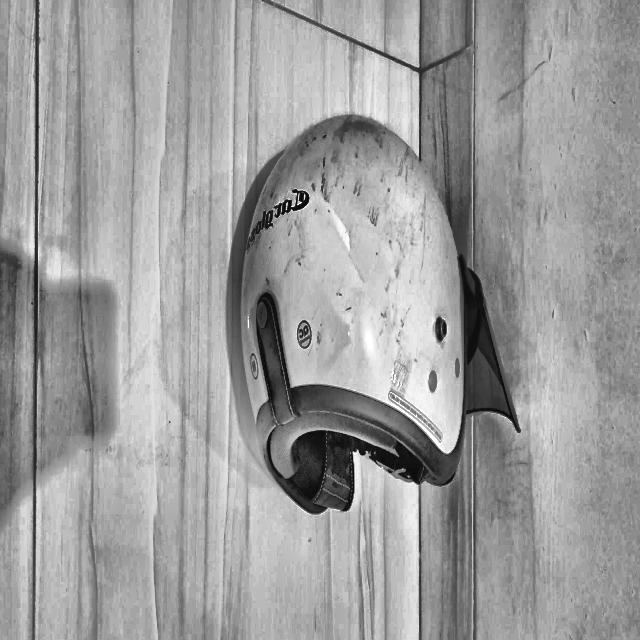Helmet: (356, 210, 614, 640)
